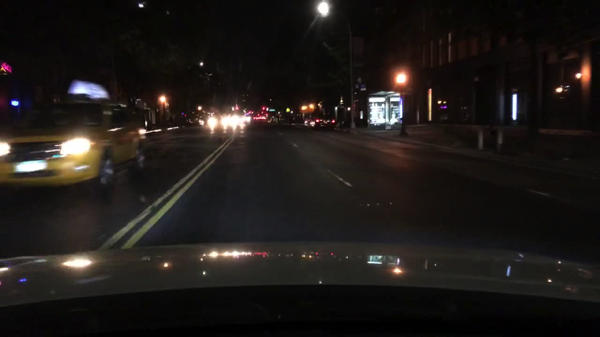car: (0, 80, 148, 202), (303, 111, 337, 132), (174, 111, 195, 128), (209, 113, 232, 128), (192, 114, 205, 128), (269, 114, 283, 126), (232, 115, 246, 126), (242, 114, 254, 124), (252, 115, 258, 120), (255, 115, 261, 120), (260, 115, 265, 120)
person: (286, 113, 294, 128)
traffic light: (260, 105, 265, 110)
traffic sign: (355, 76, 364, 84), (359, 84, 367, 92), (352, 84, 360, 90), (267, 109, 277, 113), (285, 107, 291, 112), (352, 99, 359, 103)
